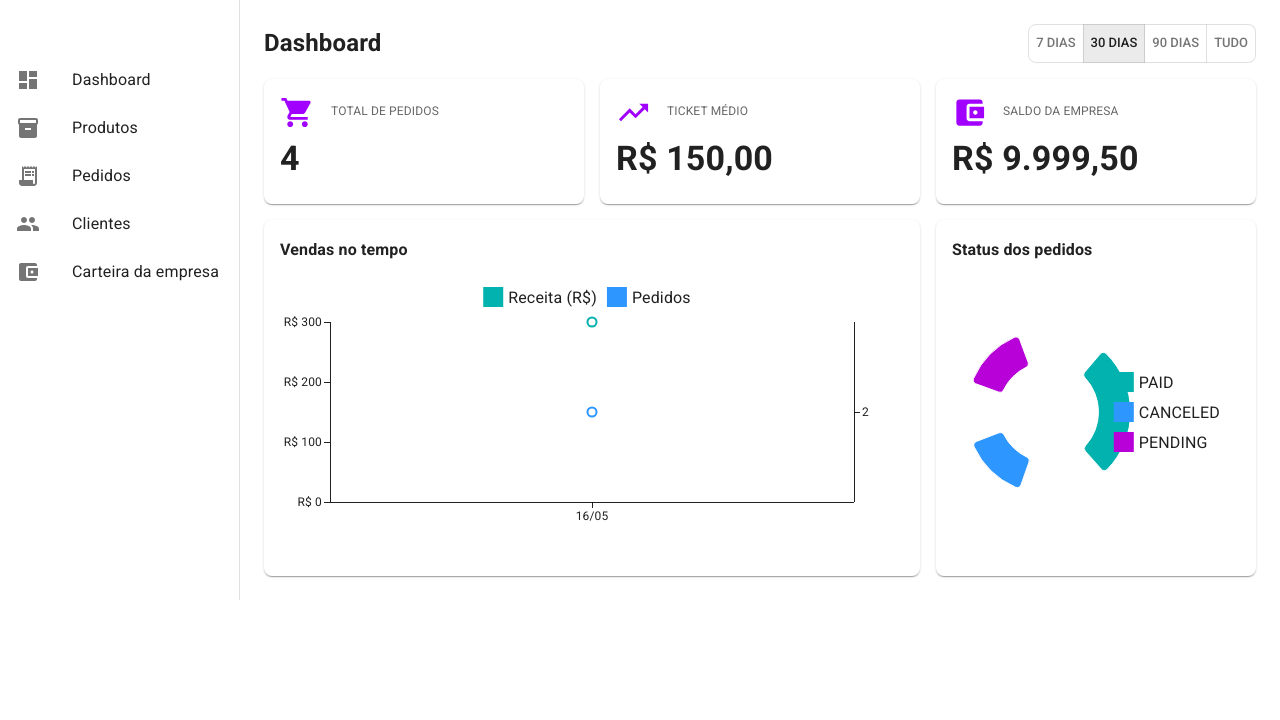
Test: AdminDashboard › filtro Tudo inclui pedido antigo (45 dias atrás)
Expected: the heading "4" is shown, [280, 138, 300, 178]
Click the button with aria-label "período Tudo".
click(1231, 43)  # box [1206, 24, 1256, 63]
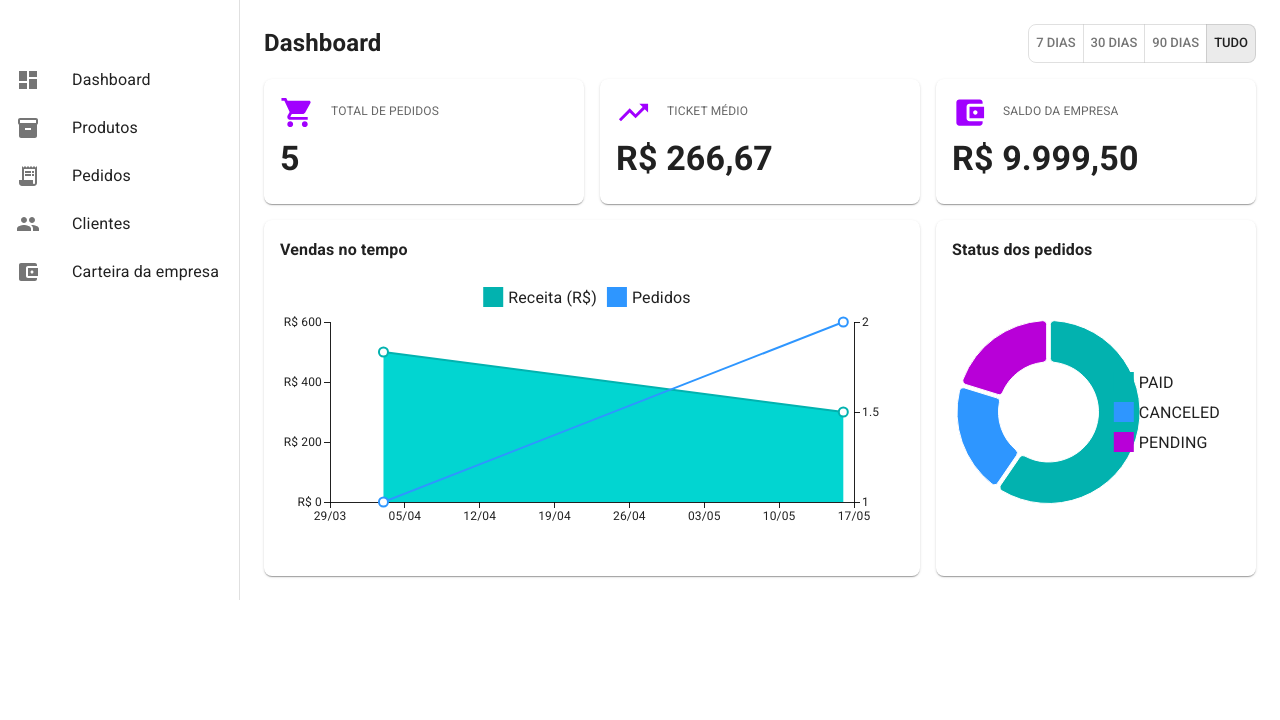
Now the heading "5" is shown, box [280, 138, 300, 178]
Now the heading "R$ 266,67" is shown, box [616, 138, 773, 178]
